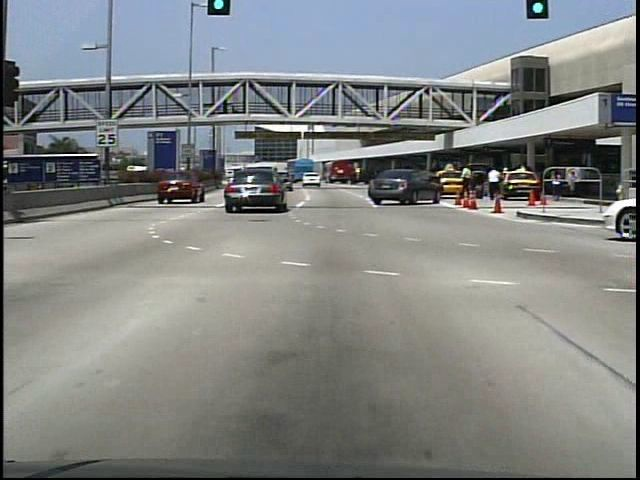person: (485, 165, 505, 203), (460, 166, 478, 205), (548, 168, 565, 204), (221, 96, 231, 116)
